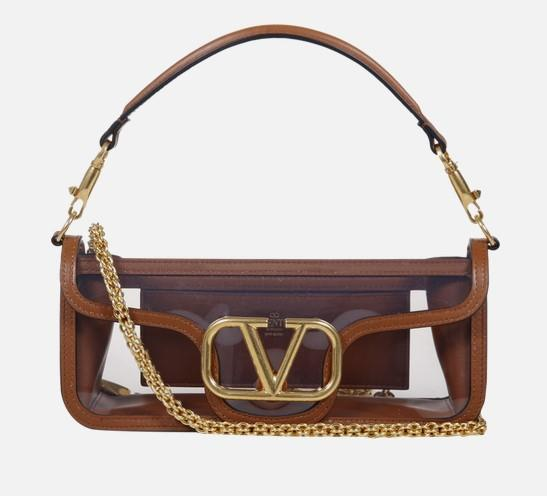VALENTINO: (201, 315, 342, 402)
